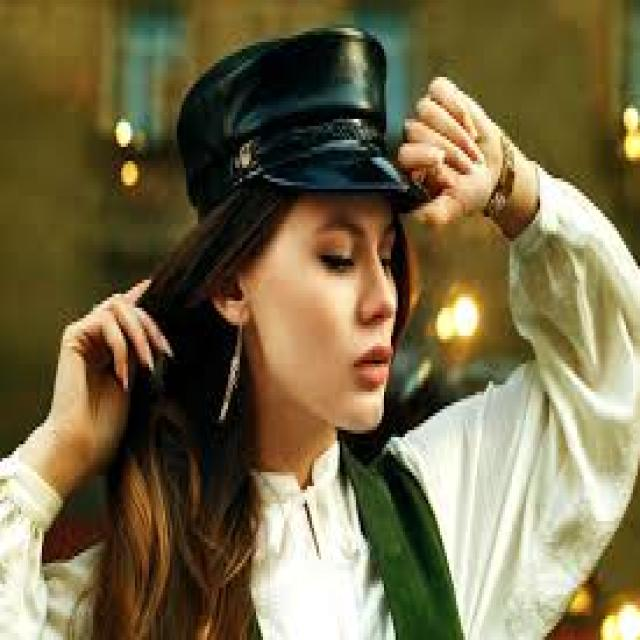hat: (177, 28, 425, 216)
